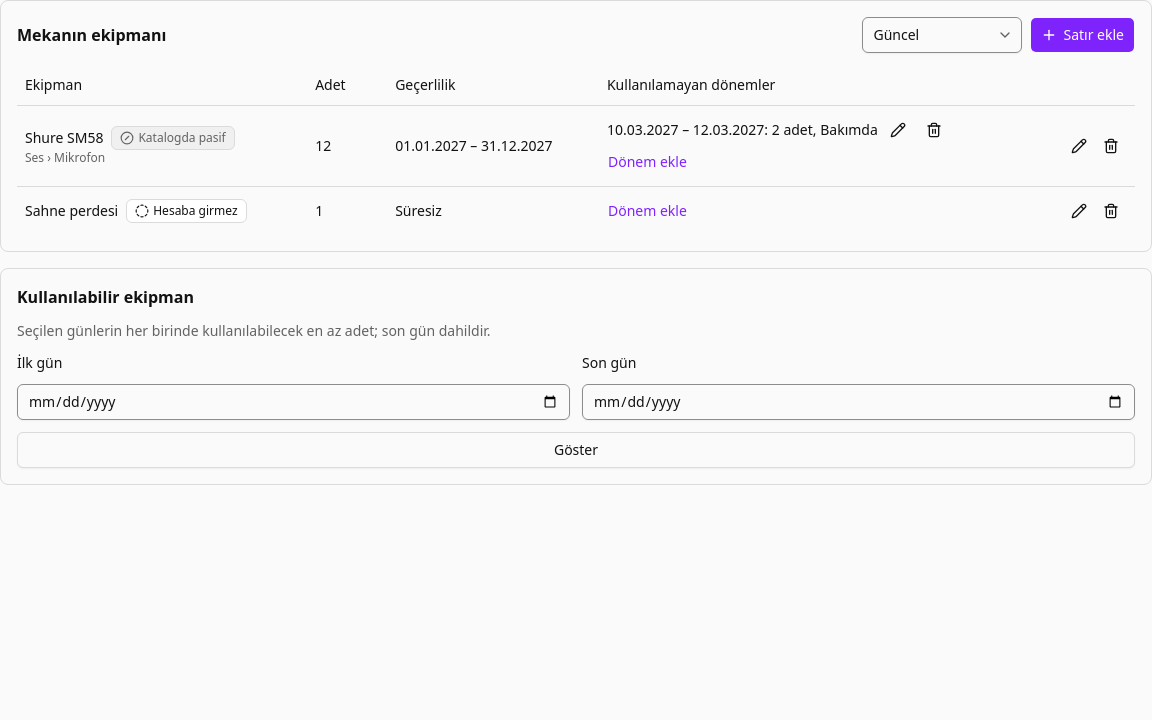
Test: VenueEquipmentTab › asks for the usable quantities with the day after the last day
The image size is (1152, 720).
In the date field labelled "İlk gün": (294, 402) [17,384,570,420], type "2027-03-11"
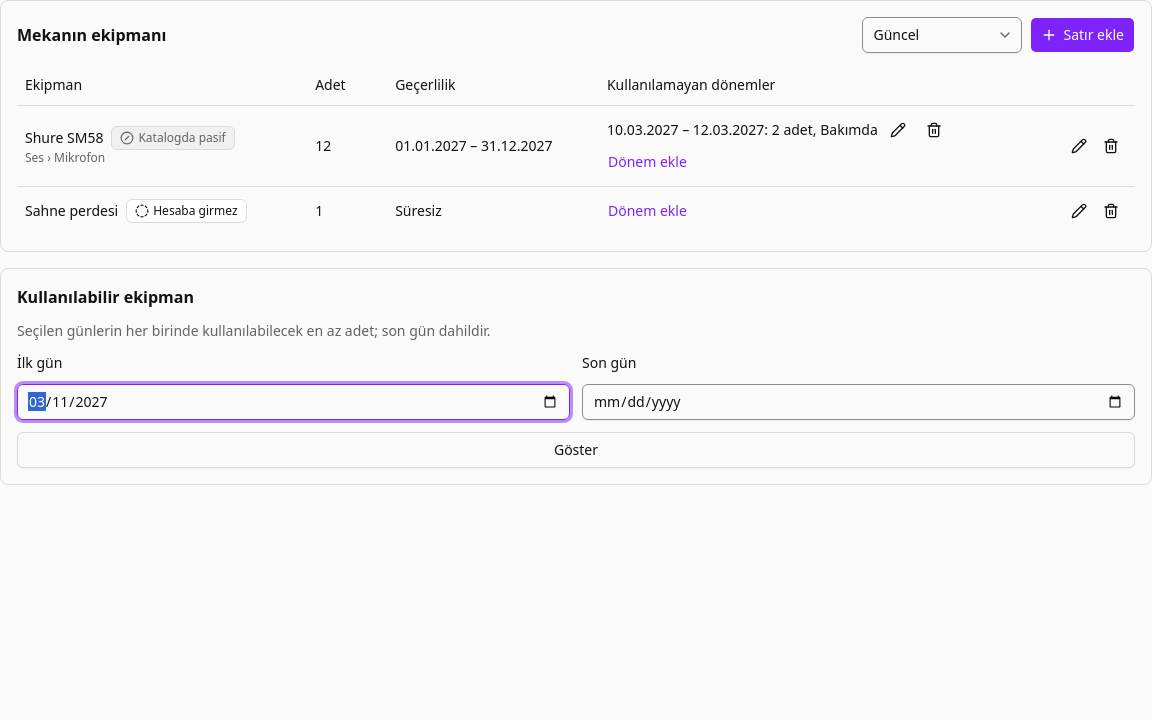
In the date field labelled "Son gün": (858, 402) [582,384,1135,420], type "2027-03-12"
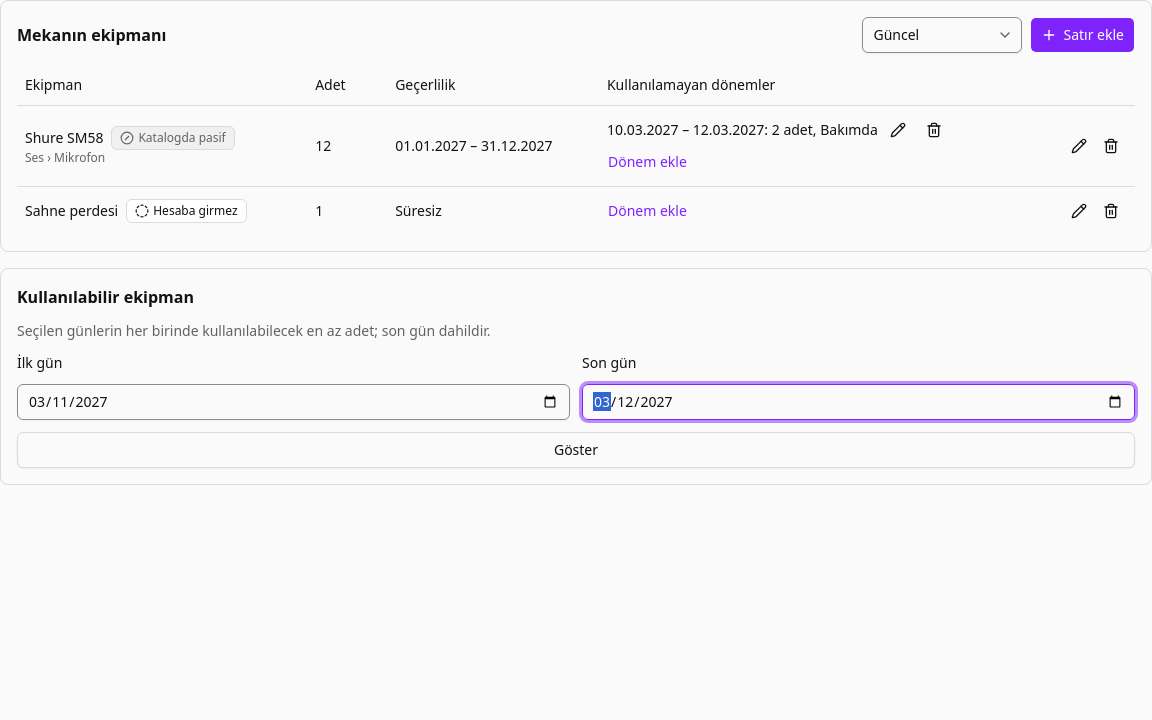
Click the button "Göster": (576, 450) [17,432,1135,468]
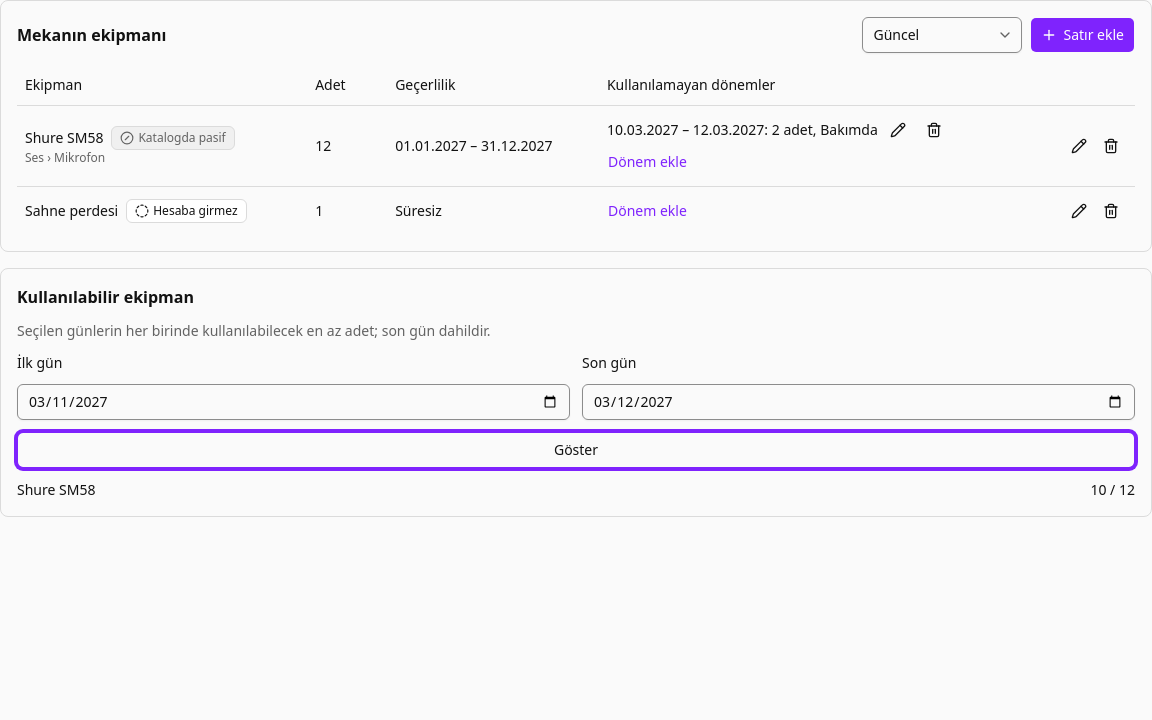
expect the text "10 / 12" is shown: met, box [1090,480,1135,500]
